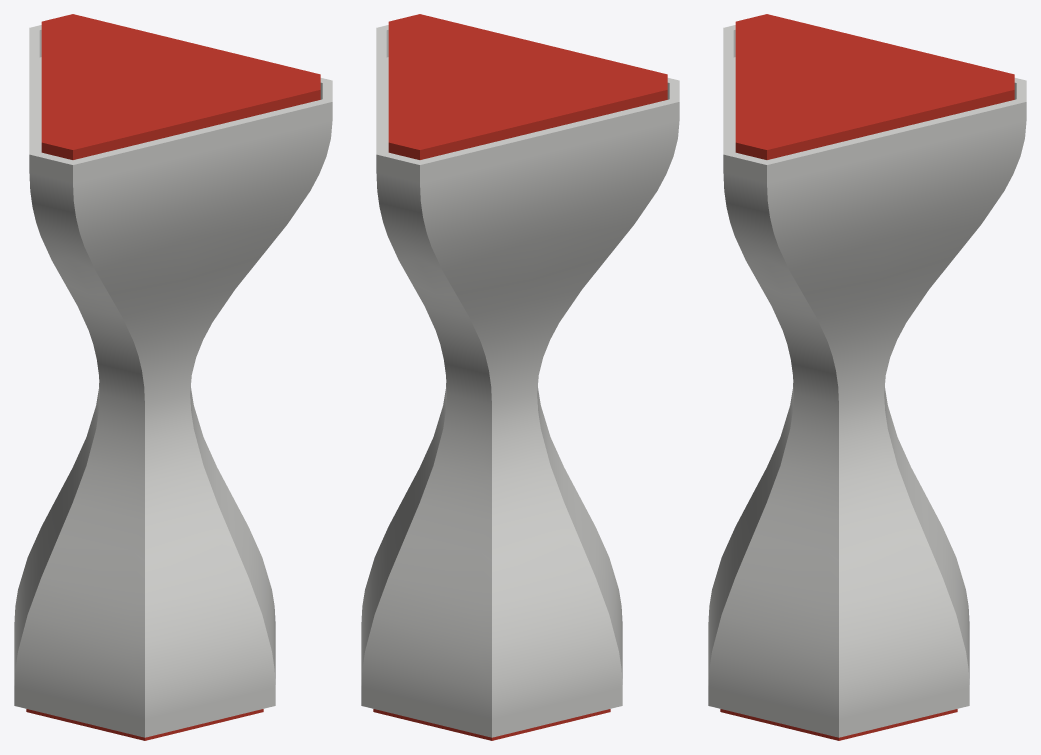
File: HOUR-GLASS-MAIN-TRI-HEX-TABGENT5 v2.fbx
The picture shows the model from 3 angles, left to right: view 1: azimuth 30°, elevation 25°; view 2: azimuth 150°, elevation 25°; view 3: azimuth 270°, elevation 25°; orthographic projection.
Parts seen in each view (by area): view 1: Body2, Body3, Body4; view 2: Body2, Body3, Body4; view 3: Body2, Body3, Body4.
Boxes of the visible parts, <box> form: Body2: <box>14,25,332,737</box>; Body3: <box>41,14,320,159</box>; Body4: <box>26,709,263,740</box>; Body2: <box>361,25,679,737</box>; Body3: <box>388,14,667,159</box>; Body4: <box>373,709,610,740</box>; Body2: <box>708,25,1026,737</box>; Body3: <box>735,14,1014,159</box>; Body4: <box>720,709,957,740</box>.
Size of the model in its own units: 34.84 by 66 by 31.67.
